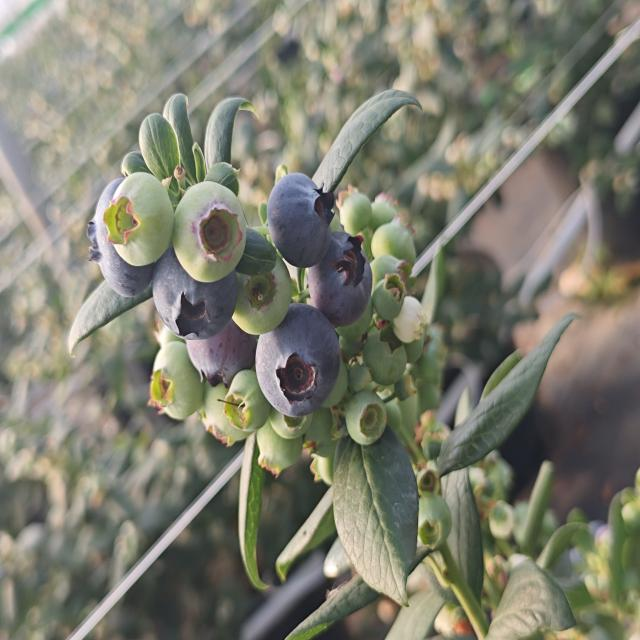ripe: (85, 168, 161, 304), (151, 236, 243, 342), (262, 158, 338, 268), (261, 318, 342, 419), (300, 228, 376, 328), (182, 301, 263, 386)
